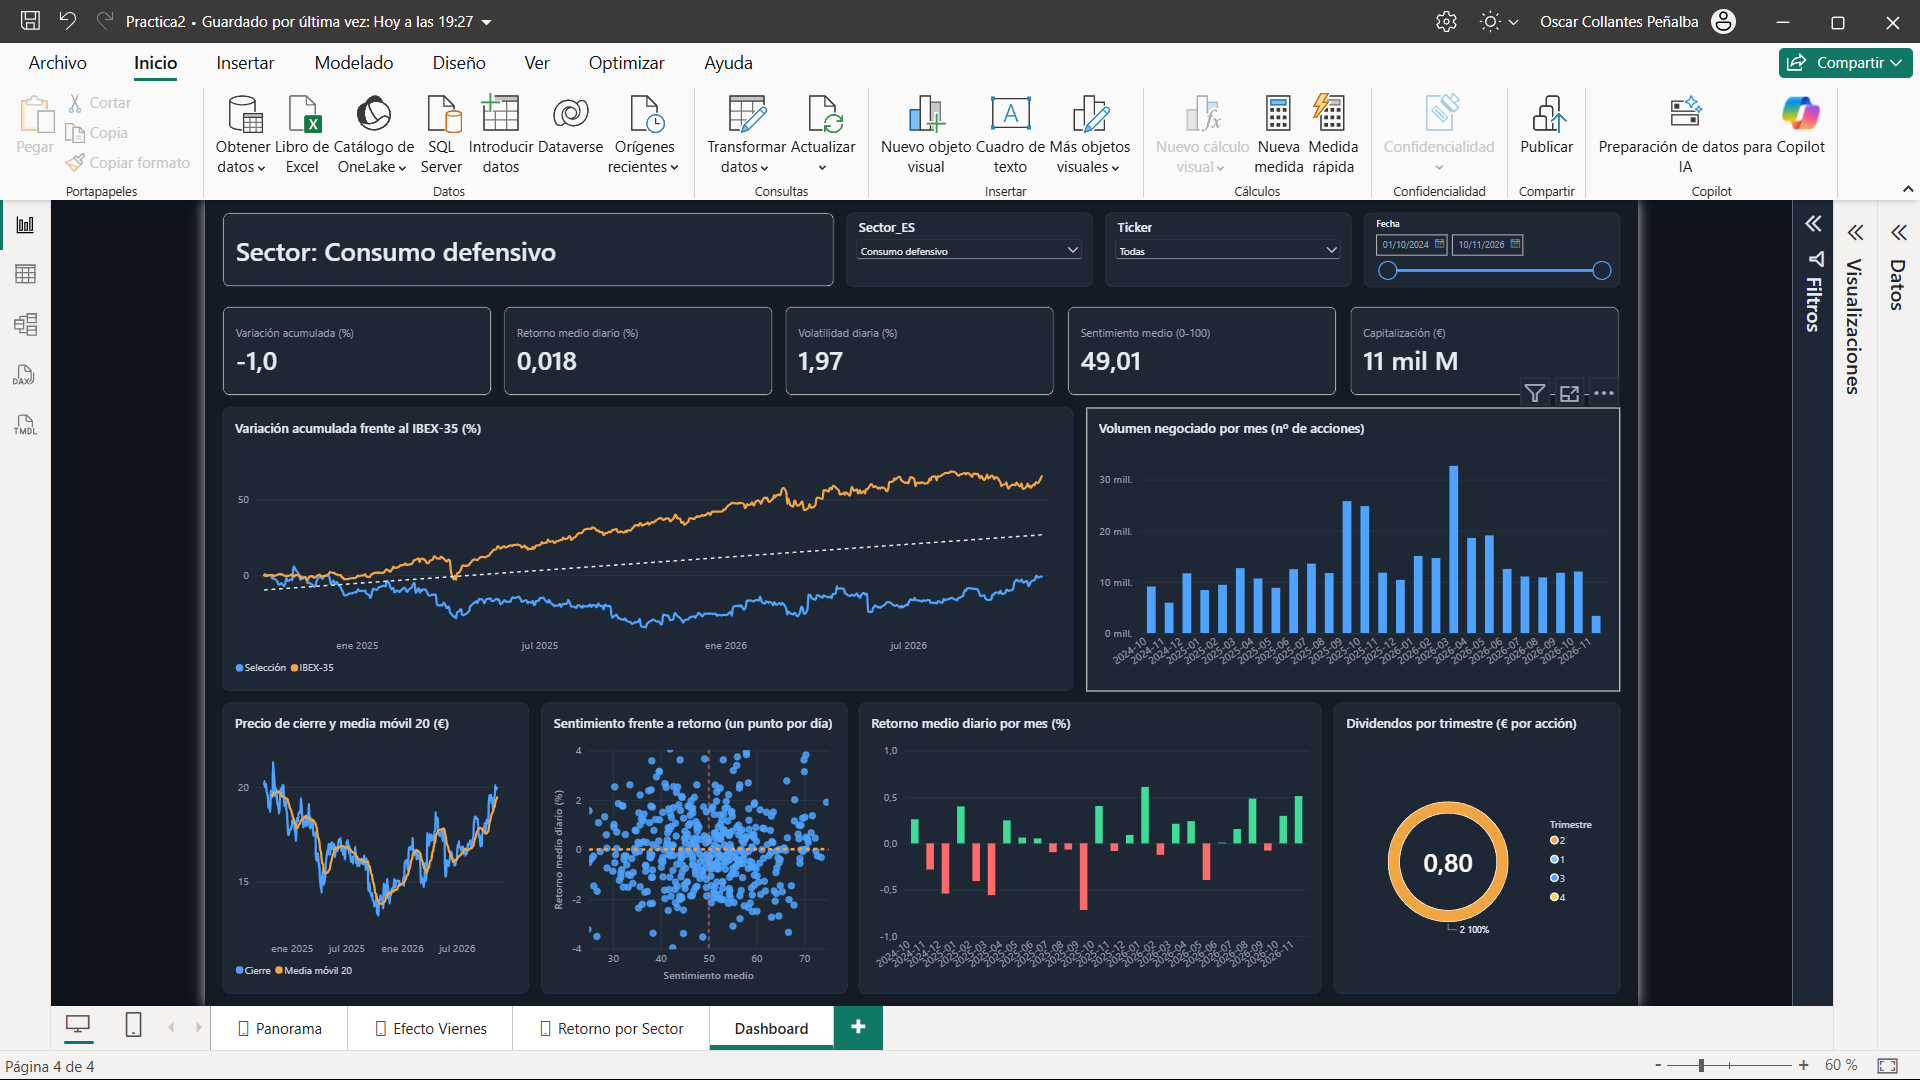

The page's visual inventory and layout, read from the dashboard file:
{"tool":"powerbi","page":{"name":"Dashboard","canvas":[1920,1080],"ordinal":3},"visuals":[{"type":"slicer","fields":{"Values":["Empresa.Sector_ES"]},"box":[753.5,31.4,280.8,68],"z":0},{"type":"slicer","fields":{"Values":["Empresa.Ticker"]},"box":[1055.2,26.2,280.8,80.2],"z":1000},{"type":"slicer","fields":{"Values":["Fecha.Fecha"]},"box":[1360.5,19.2,280.8,95.9],"z":2000},{"type":"cardVisual","fields":{"Data":["Hechos.Variacion Acumulada"]},"box":[36.6,115.1,218,174.4],"z":3000},{"type":"cardVisual","fields":{"Data":["Hechos.Retorno Medio Diario"]},"box":[375,115.1,218,174.4],"z":4000},{"type":"cardVisual","fields":{"Data":["Hechos.Volatilidad Diaria"]},"box":[741.3,115.1,218,174.4],"z":5000},{"type":"cardVisual","fields":{"Data":["Hechos.Sentimiento Medio"]},"box":[1088.4,115.1,218,174.4],"z":6000},{"type":"cardVisual","fields":{"Data":["Hechos.Capitalizacion Total"]},"box":[1447.7,115.1,218,174.4],"z":7000},{"type":"lineChart","fields":{"Category":["Fecha.Fecha"],"Y":["Hechos.Var Acum Seleccion","Hechos.Var Acum IBEX"]},"box":[43.6,314,1058.7,376.7],"z":8000},{"type":"clusteredColumnChart","fields":{"Category":["Fecha.AnioMes"],"Y":["Sum(Hechos.Volume)"]},"box":[1133.7,314,736,376.7],"z":9000},{"type":"lineChart","fields":{"Category":["Fecha.Fecha"],"Y":["Avg(Hechos.Close)","Avg(Hechos.Media_Movil_20)"]},"box":[66.3,711.6,395.9,322.7],"z":10000},{"type":"scatterChart","fields":{"Category":["Fecha.Fecha"],"X":["Hechos.Sentimiento Medio"],"Y":["Hechos.Retorno Medio Diario"]},"box":[462.2,711.6,444.8,322.7],"z":11000},{"type":"clusteredColumnChart","fields":{"Category":["Fecha.AnioMes"],"Y":["Hechos.Retorno Medio Diario"]},"box":[907,711.6,610.5,322.7],"z":12000},{"type":"donutChart","fields":{"Category":["Fecha.Trimestre"],"Y":["Sum(Hechos.Dividends)"]},"box":[1517.4,711.6,385.5,322.7],"z":13000},{"type":"cardVisual","fields":{"Data":["Hechos.Titulo Dashboard"]},"box":[66.3,19.2,556.4,75],"z":13001}]}

Visuals, with their boxes on the page's 1920x1080 design canvas (x1, y1, x2, y2). These are canvas units, not pixel positions in the 1920x1080 screenshot, which may show the page scaled, cropped or inside an application window:
slicer - Empresa.Sector_ES: detection(754, 31, 1034, 99)
slicer - Empresa.Ticker: detection(1055, 26, 1336, 106)
slicer - Fecha.Fecha: detection(1360, 19, 1641, 115)
cardVisual - Hechos.Variacion Acumulada: detection(37, 115, 255, 290)
cardVisual - Hechos.Retorno Medio Diario: detection(375, 115, 593, 290)
cardVisual - Hechos.Volatilidad Diaria: detection(741, 115, 959, 290)
cardVisual - Hechos.Sentimiento Medio: detection(1088, 115, 1306, 290)
cardVisual - Hechos.Capitalizacion Total: detection(1448, 115, 1666, 290)
lineChart - Fecha.Fecha x Hechos.Var Acum Seleccion: detection(44, 314, 1102, 691)
clusteredColumnChart - Fecha.AnioMes x Sum(Hechos.Volume): detection(1134, 314, 1870, 691)
lineChart - Fecha.Fecha x Avg(Hechos.Close): detection(66, 712, 462, 1034)
scatterChart - Fecha.Fecha x Hechos.Sentimiento Medio: detection(462, 712, 907, 1034)
clusteredColumnChart - Fecha.AnioMes x Hechos.Retorno Medio Diario: detection(907, 712, 1518, 1034)
donutChart - Fecha.Trimestre x Sum(Hechos.Dividends): detection(1517, 712, 1903, 1034)
cardVisual - Hechos.Titulo Dashboard: detection(66, 19, 623, 94)
